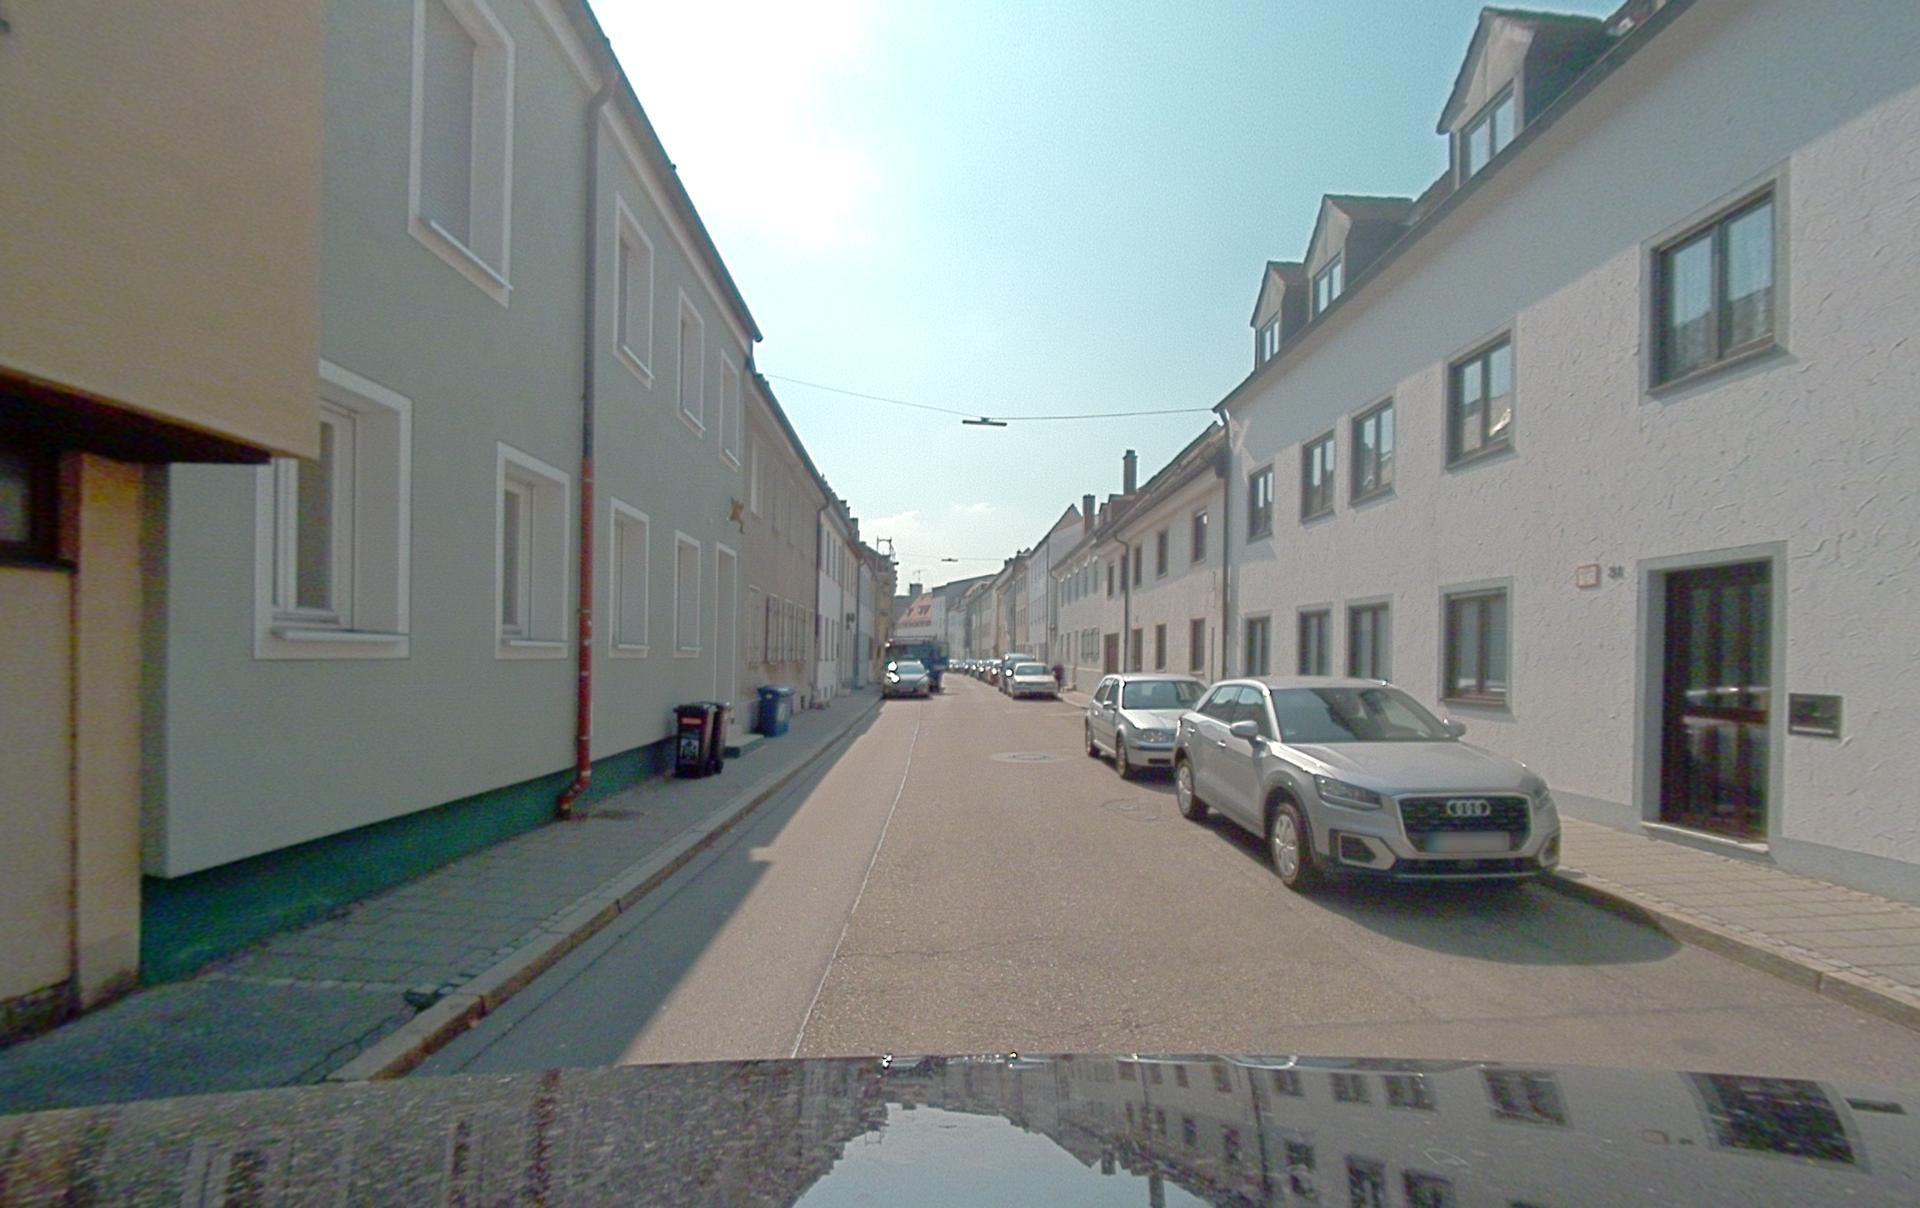car: (1171, 675, 1562, 892), (1084, 672, 1209, 779), (882, 660, 931, 699), (1009, 661, 1059, 699), (999, 654, 1035, 693)
